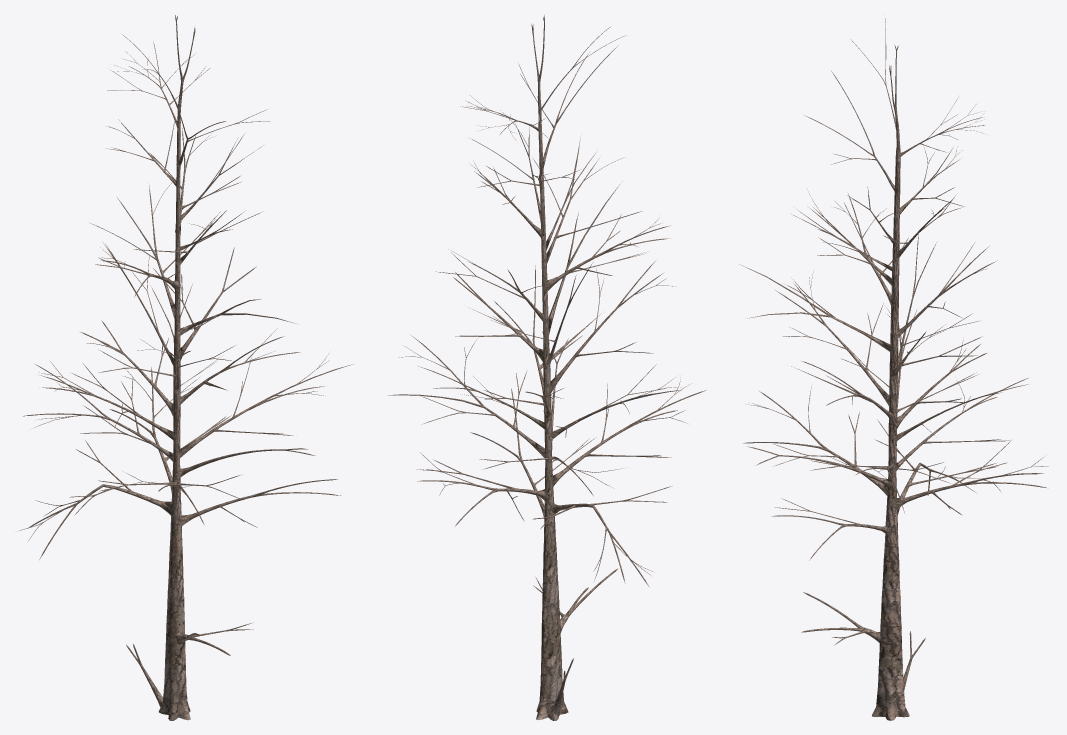
Rendered from Tree0.glb.
3 views of the same model, side by side, from view 1: azimuth 30°, elevation 25°; view 2: azimuth 150°, elevation 25°; view 3: azimuth 270°, elevation 25° (orthographic). The views are drawn at different scales.
Parts seen in each view (by area): view 1: bottom_trunk, top_trunk, polySurface43, polySurface32, polySurface120, polySurface34, polySurface100, polySurface131, polySurface36, polySurface119Shape, polySurface62Shape, polySurface84Shape; view 2: bottom_trunk, top_trunk, polySurface32, polySurface119Shape, polySurface43, polySurface120, polySurface35, polySurface83, polySurface21, polySurface34, polySurface62Shape, polySurface37 (+3 smaller); view 3: bottom_trunk, top_trunk, polySurface120, polySurface119Shape, polySurface35, polySurface21, polySurface43, polySurface100, polySurface131, polySurface36, polySurfaceShape66, polySurface84Shape (+4 smaller).
Boxes of the visible parts, <box> form: bottom_trunk: <box>158,413,190,720</box>; top_trunk: <box>173,83,183,414</box>; polySurface43: <box>19,440,174,559</box>; polySurface32: <box>180,354,352,457</box>; polySurface120: <box>80,367,231,493</box>; polySurface34: <box>39,361,176,441</box>; polySurface100: <box>23,364,173,461</box>; polySurface131: <box>180,479,340,527</box>; polySurface36: <box>90,183,220,318</box>; polySurface119Shape: <box>98,471,242,524</box>; polySurface62Shape: <box>179,328,299,404</box>; polySurface84Shape: <box>79,320,173,416</box>; bottom_trunk: <box>536,414,568,720</box>; top_trunk: <box>537,84,551,409</box>; polySurface32: <box>388,335,545,457</box>; polySurface119Shape: <box>552,377,706,486</box>; polySurface43: <box>533,486,671,587</box>; polySurface120: <box>417,452,550,526</box>; polySurface35: <box>550,261,676,392</box>; polySurface83: <box>545,214,670,290</box>; polySurface21: <box>542,181,646,334</box>; polySurface34: <box>547,364,681,441</box>; polySurface62Shape: <box>470,265,601,395</box>; polySurface37: <box>533,148,642,263</box>; bottom_trunk: <box>872,426,909,720</box>; top_trunk: <box>888,114,900,427</box>; polySurface120: <box>893,439,1048,515</box>; polySurface119Shape: <box>743,387,888,495</box>; polySurface35: <box>774,270,890,405</box>; polySurface21: <box>739,264,894,351</box>; polySurface43: <box>876,419,998,515</box>; polySurface100: <box>895,378,1028,470</box>; polySurface131: <box>772,498,892,560</box>; polySurface36: <box>895,243,997,339</box>; polySurfaceShape66: <box>801,592,882,645</box>; polySurface84Shape: <box>895,340,986,428</box>.
Bounding box in the file's own units: 3.05 × 6.87 × 2.93.
Materials: 1 (1 with a texture image).
